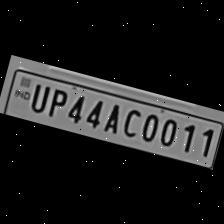0: (154, 112, 182, 148), (137, 107, 163, 144)
1: (193, 124, 219, 158), (176, 119, 200, 154)
4: (62, 88, 90, 125), (82, 92, 108, 130)
A: (99, 97, 125, 135)
C: (117, 101, 144, 139)
P: (42, 82, 70, 120)
U: (25, 78, 50, 114)
